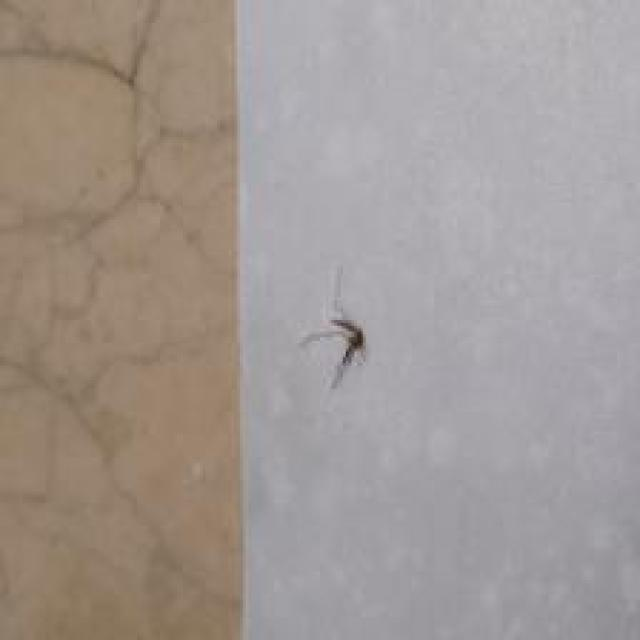Culex: (299, 264, 367, 390)
